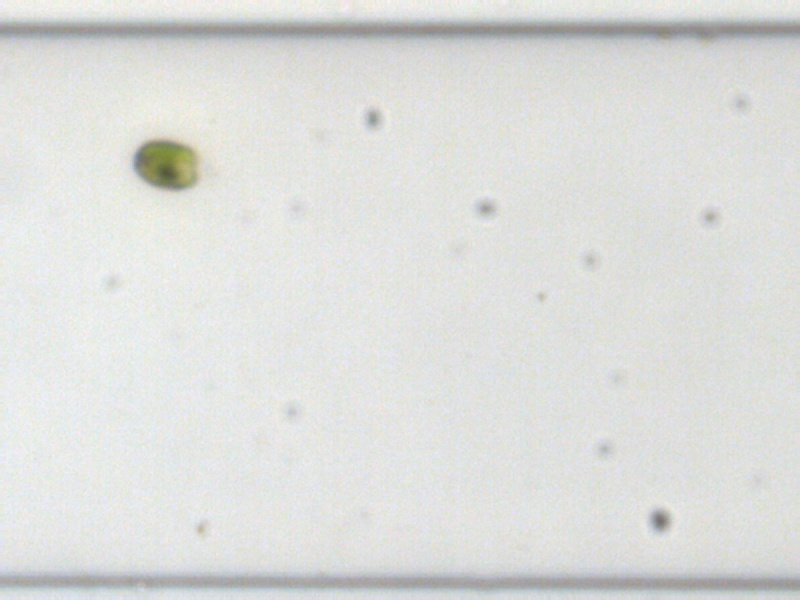Platymonas: (128, 138, 199, 190)
